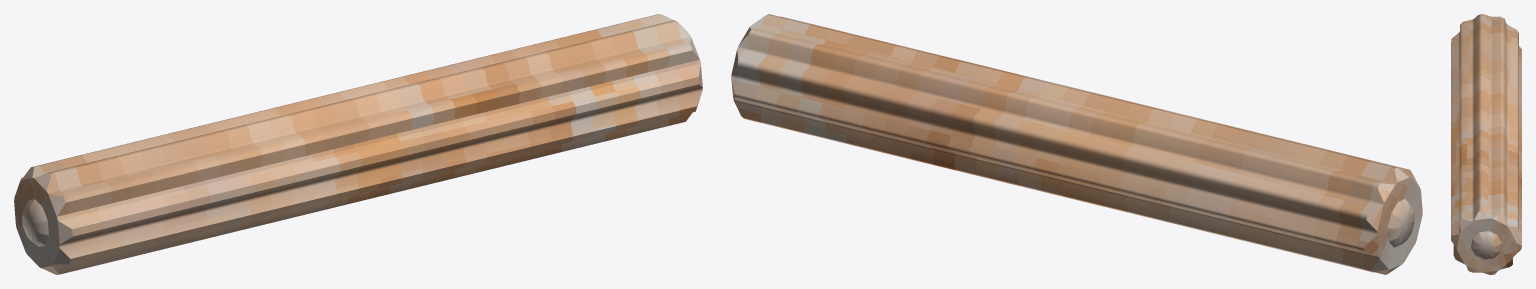
The model's file is AL_Churros.fbx.
3 views of the same model, side by side, from view 1: azimuth 30°, elevation 25°; view 2: azimuth 150°, elevation 25°; view 3: azimuth 270°, elevation 25° (orthographic). The views are drawn at different scales.
Parts seen in each view (by area): view 1: Churro1_Low; view 2: Churro1_Low; view 3: Churro1_Low.
Part boxes in pixels (x1,y1,x2,y2): Churro1_Low: (14, 14, 702, 274); Churro1_Low: (731, 14, 1422, 274); Churro1_Low: (1451, 14, 1521, 274).
Size of the model in its own units: 0.0435 by 0.0435 by 0.2985.
